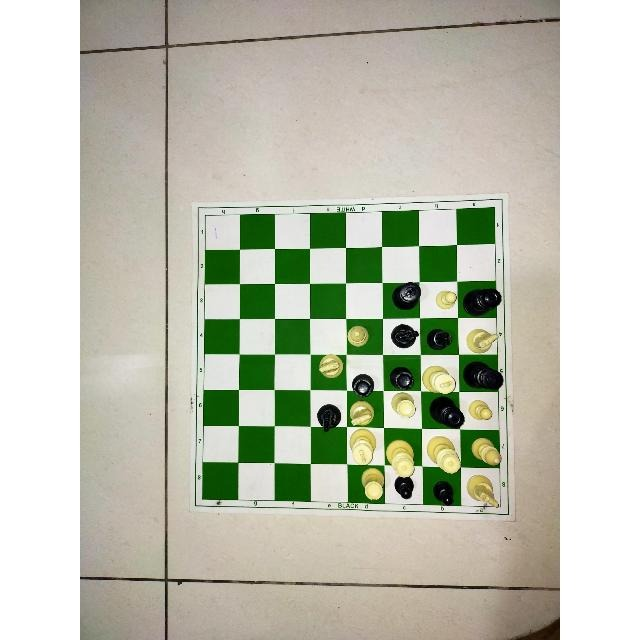black-bishop: (428, 326, 451, 352)
black-king: (464, 360, 503, 392), (394, 280, 422, 308)
black-knight: (390, 322, 418, 351), (318, 403, 338, 433)
black-pawn: (434, 481, 454, 509), (393, 476, 412, 501)
black-queen: (429, 398, 465, 434), (465, 289, 501, 315)
black-rook: (390, 366, 413, 390), (353, 374, 371, 398)
white-bishop: (472, 438, 502, 466), (347, 324, 368, 349)
white-king: (421, 366, 456, 395), (349, 430, 375, 466)
white-knight: (467, 472, 501, 510), (468, 326, 496, 354), (348, 398, 373, 425), (319, 355, 340, 379)
white-pawn: (467, 397, 494, 423), (436, 287, 455, 313)
white-queen: (427, 437, 461, 477), (387, 441, 415, 479)
white-rook: (361, 472, 384, 503), (391, 393, 415, 421)
